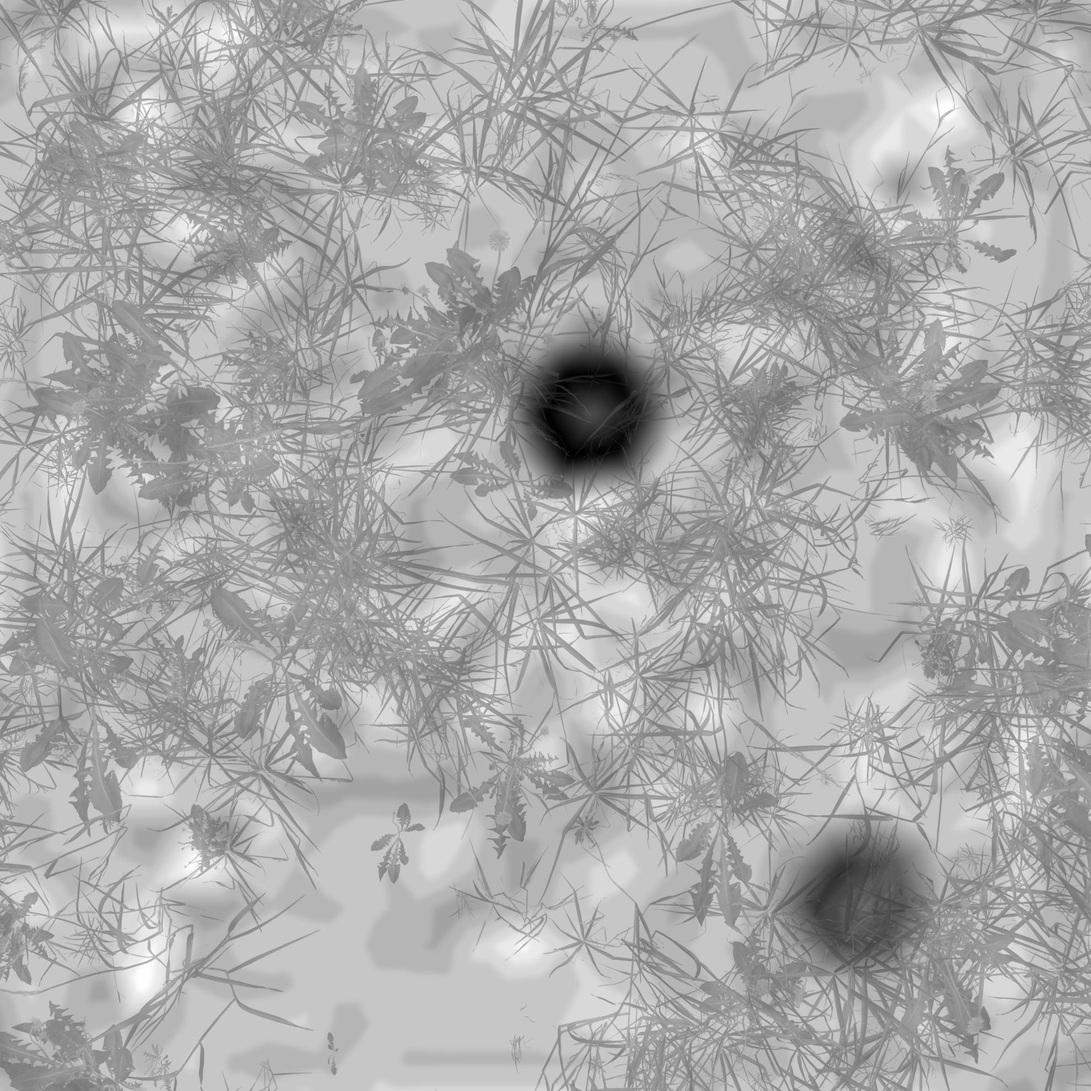landmine: (511, 333, 658, 491), (798, 829, 930, 963)
